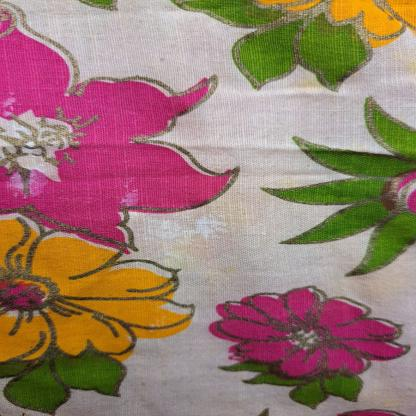spot: (154, 216, 250, 244), (5, 168, 78, 203), (113, 182, 146, 210), (0, 90, 21, 118), (297, 78, 330, 94), (396, 52, 416, 78), (302, 161, 312, 166)
